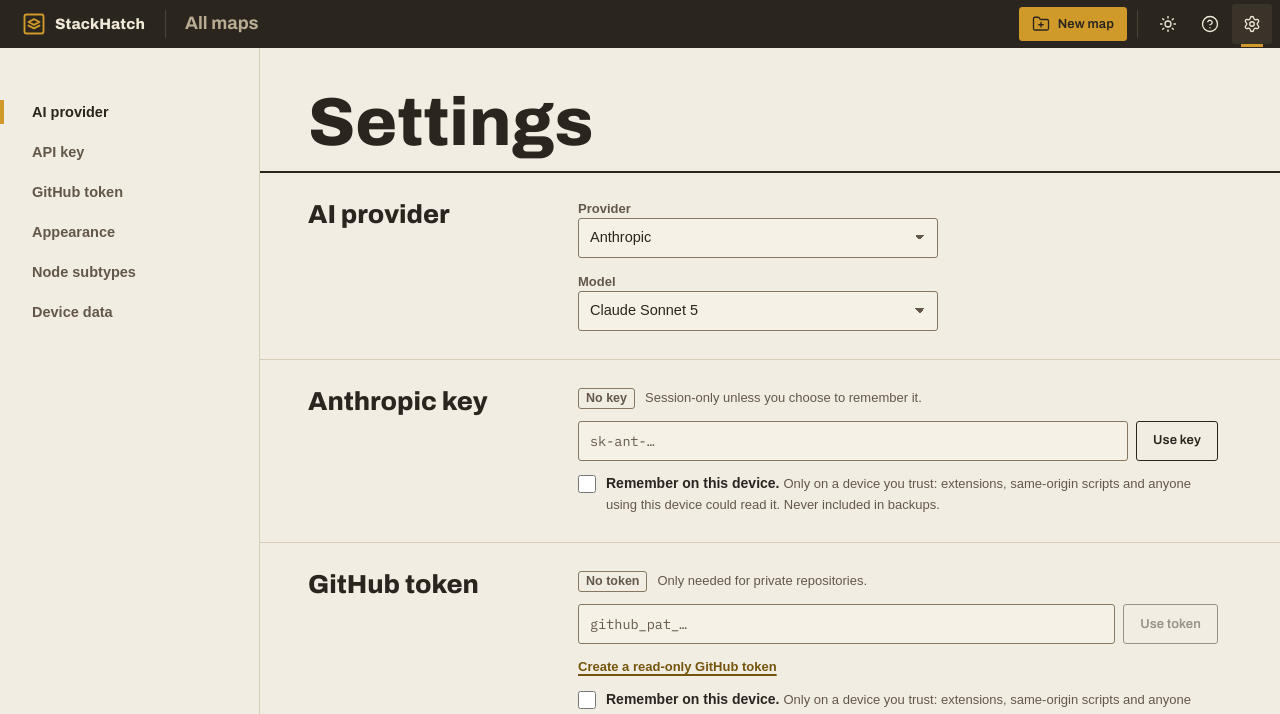
DeviceSettingsPage › keeps a session key out of React state and visibly distinguishes its lifecycle
This screenshot has width=1280, height=714.
Expected: the text "No key" is shown, [578,388,635,409]
Step 1. Type "sk-ant-session" into the password field named "Anthropic API key" → (853, 441), box [578,421,1128,461]
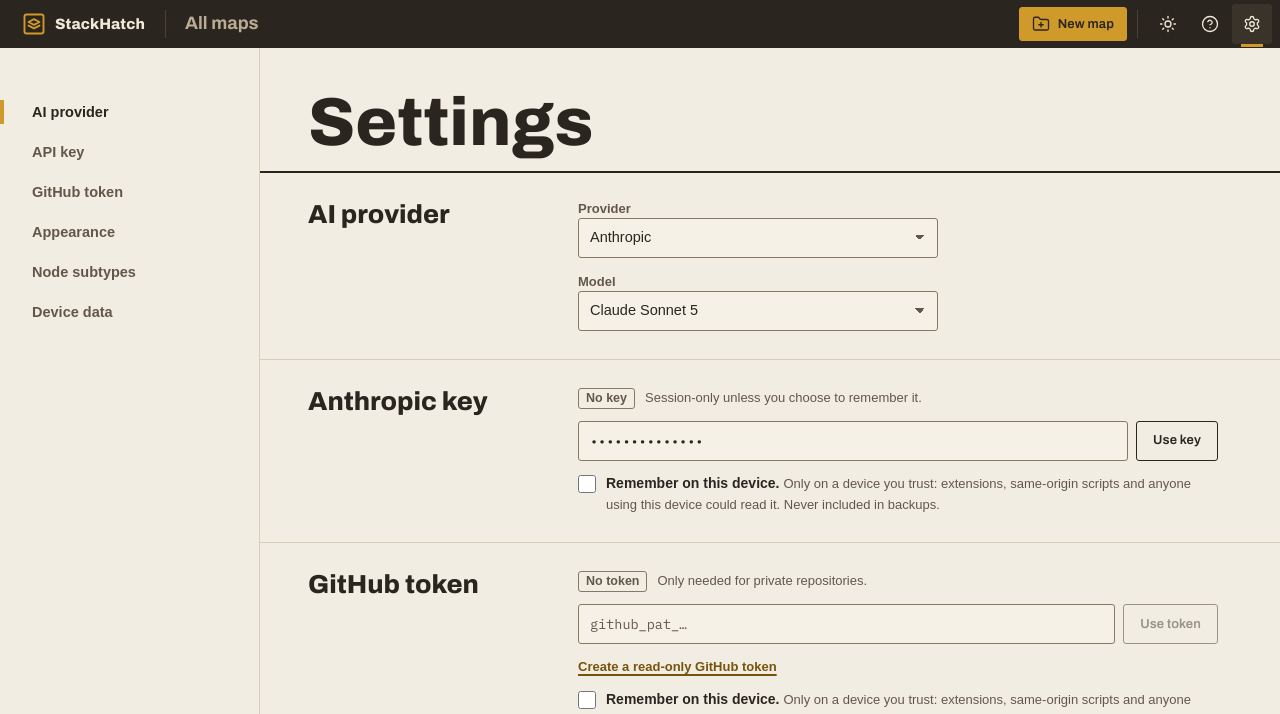
Step 2. Click the button "Use key" → (1177, 441), box [1136,421,1218,461]
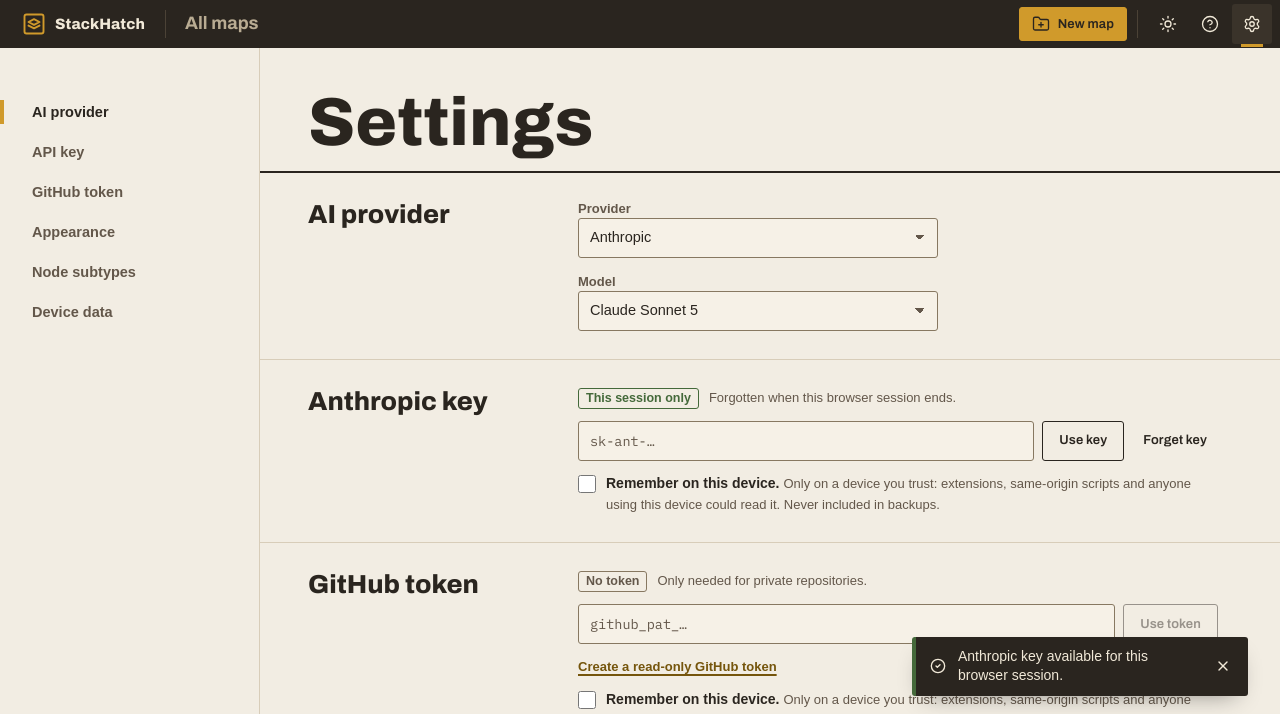
Now the text with test id "key-status-session" reads "This session only", box [586,391,691,405]
Now the password field named "Anthropic API key" is empty, box [578,421,1034,461]
